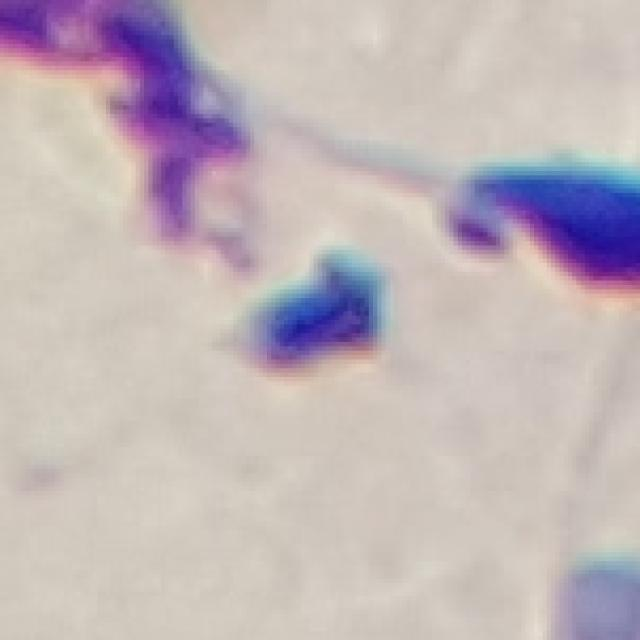non-sperm: (240, 249, 386, 373)
